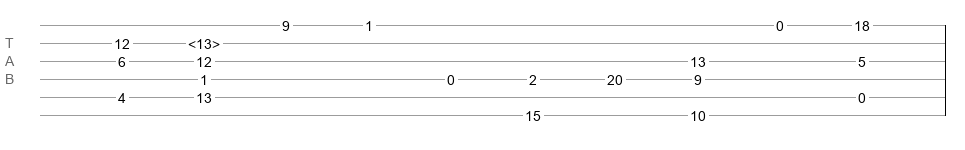0: (447, 72, 455, 82), (776, 18, 784, 28), (858, 90, 866, 100)
1: (200, 72, 208, 82), (365, 18, 373, 28)
10: (690, 108, 706, 118)
12: (114, 36, 130, 46), (196, 54, 212, 64)
13: (196, 90, 212, 100), (690, 54, 706, 64)
15: (525, 108, 541, 118)
18: (854, 18, 870, 28)
2: (529, 72, 537, 82)
20: (607, 72, 623, 82)
4: (118, 90, 126, 100)
5: (858, 54, 866, 64)
6: (118, 54, 126, 64)
9: (282, 18, 290, 28), (694, 72, 702, 82)
harmonic: (188, 36, 220, 46)
